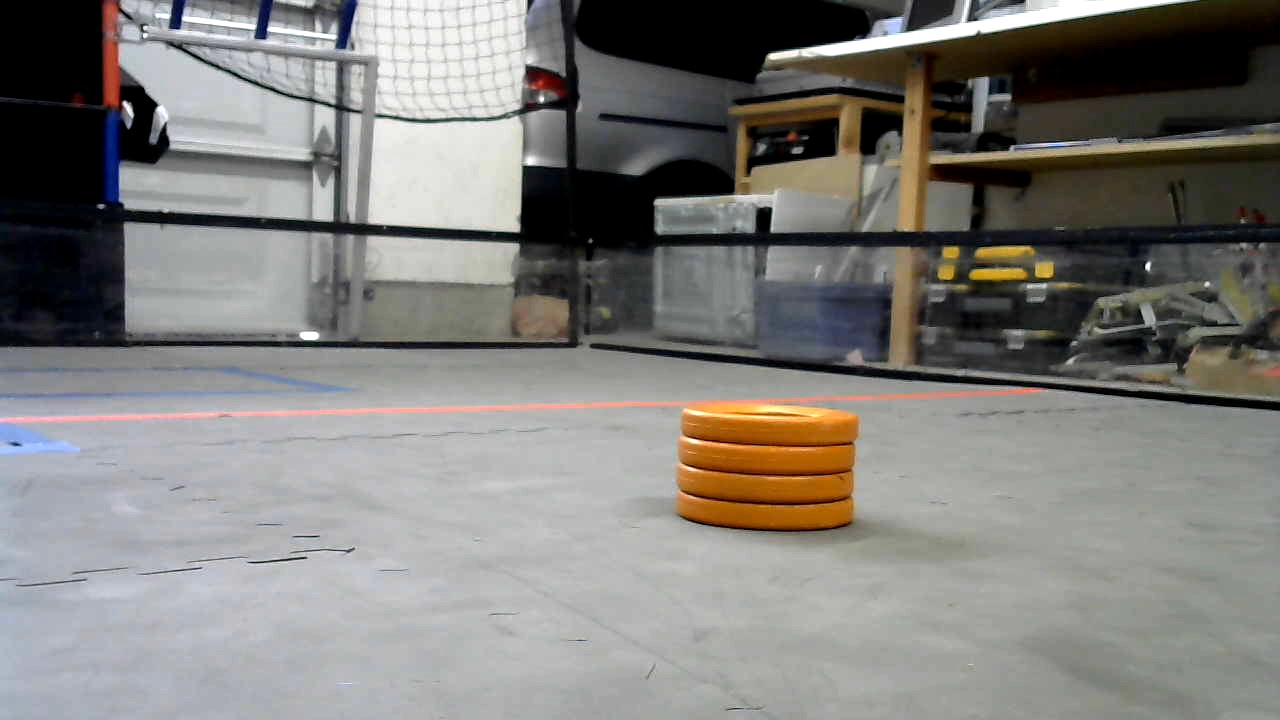FourStack: (675, 404, 857, 532)
